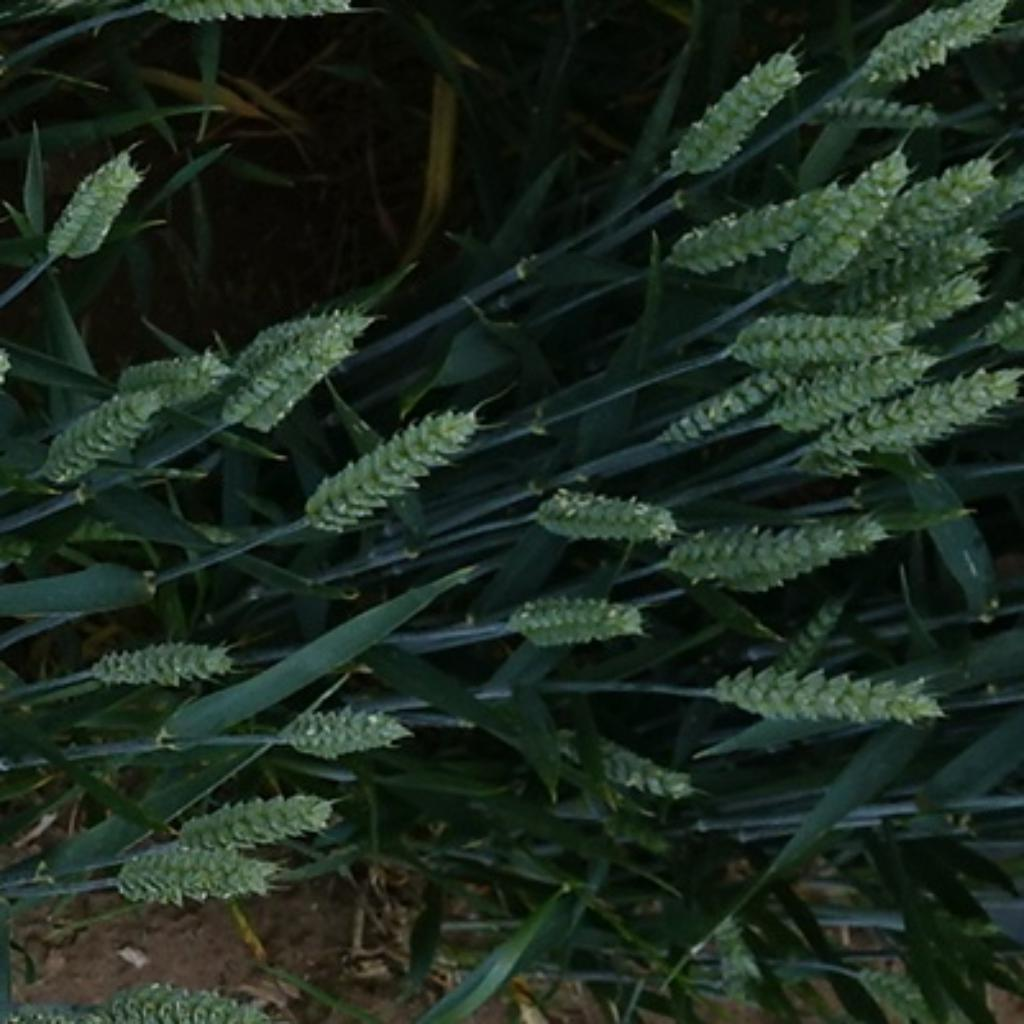0-0: (286, 386, 491, 535), (683, 650, 965, 742), (782, 367, 1024, 473), (650, 501, 896, 593), (652, 35, 808, 179), (547, 704, 704, 834), (223, 313, 377, 438), (97, 816, 296, 908), (798, 158, 911, 289), (33, 389, 174, 491), (768, 348, 944, 427), (665, 192, 826, 276), (40, 143, 151, 258), (163, 783, 348, 849), (853, 225, 1009, 299), (882, 151, 1004, 245), (855, 5, 1003, 81), (87, 622, 250, 691), (527, 478, 683, 547), (657, 363, 778, 450), (719, 307, 880, 371), (271, 691, 412, 760), (504, 583, 647, 650), (80, 978, 285, 1024), (224, 313, 370, 373), (867, 271, 993, 337), (115, 350, 235, 414), (760, 601, 849, 683), (796, 87, 957, 130), (929, 163, 1024, 231), (134, 0, 366, 25), (852, 960, 941, 1019)
